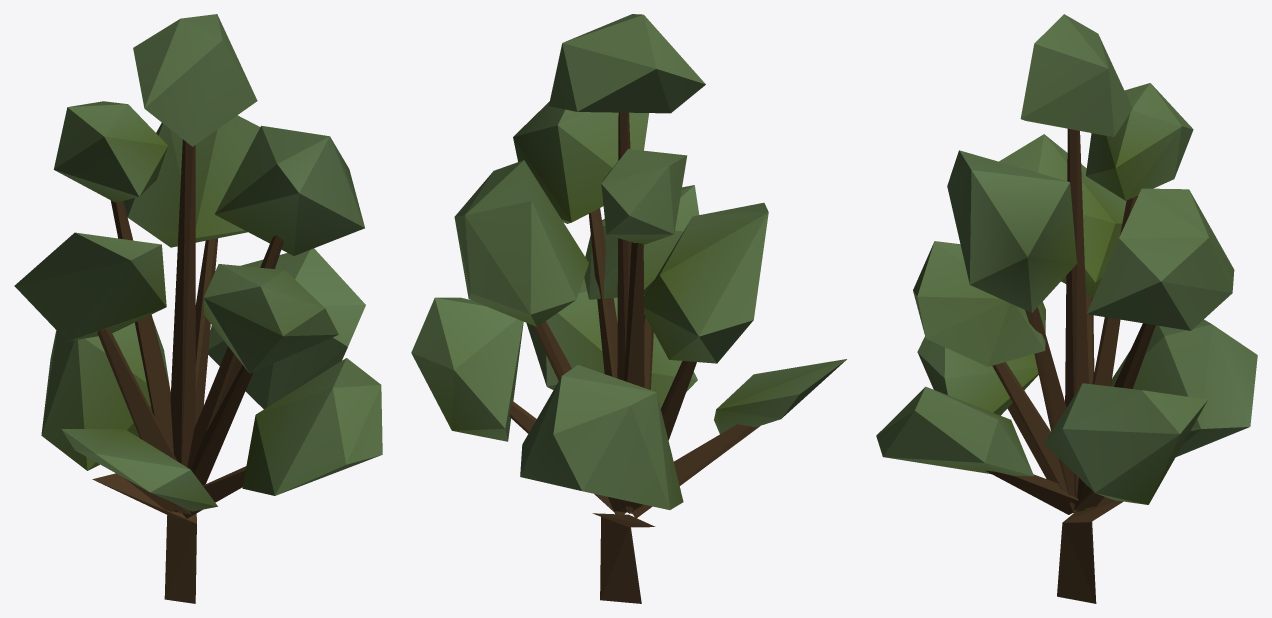
The model's file is pine_low.glb.
3 renders of one model, left to right at view 1: azimuth 30°, elevation 25°; view 2: azimuth 150°, elevation 25°; view 3: azimuth 270°, elevation 25°, orthographic.
Visible parts, largest first — view 1: pine_low; view 2: pine_low; view 3: pine_low.
Part boxes in pixels (left/top/right/bottom): pine_low: left=14, top=14, right=382, bottom=603; pine_low: left=411, top=14, right=846, bottom=603; pine_low: left=876, top=14, right=1257, bottom=603.
Bounding box in the file's own units: 1.65 × 2.8 × 1.68.
